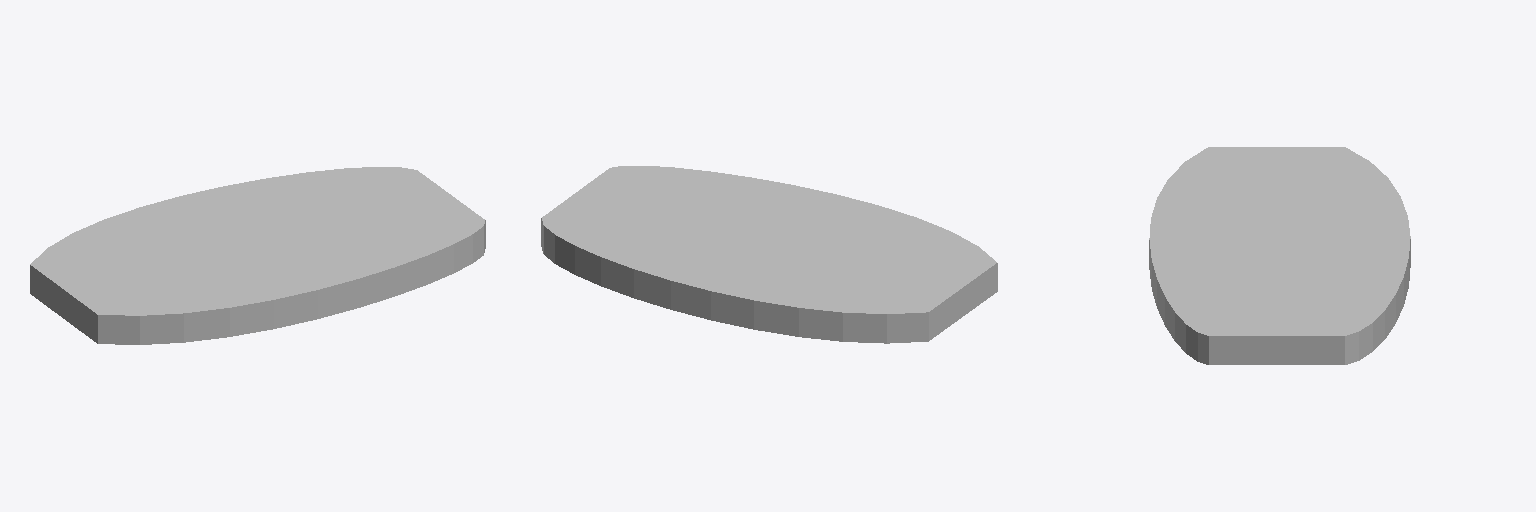
The model's file is 0soap.obj.
3 renders of one model, left to right at view 1: azimuth 30°, elevation 25°; view 2: azimuth 150°, elevation 25°; view 3: azimuth 270°, elevation 25°, orthographic.
Visible parts, largest first — view 1: path1054; view 2: path1054; view 3: path1054.
Part boxes in pixels (bbox=[...]): path1054: bbox=[30, 167, 485, 344]; path1054: bbox=[541, 166, 997, 343]; path1054: bbox=[1149, 147, 1410, 364].
Bounding box in the file's own units: 13.86 × 1 × 8.08.